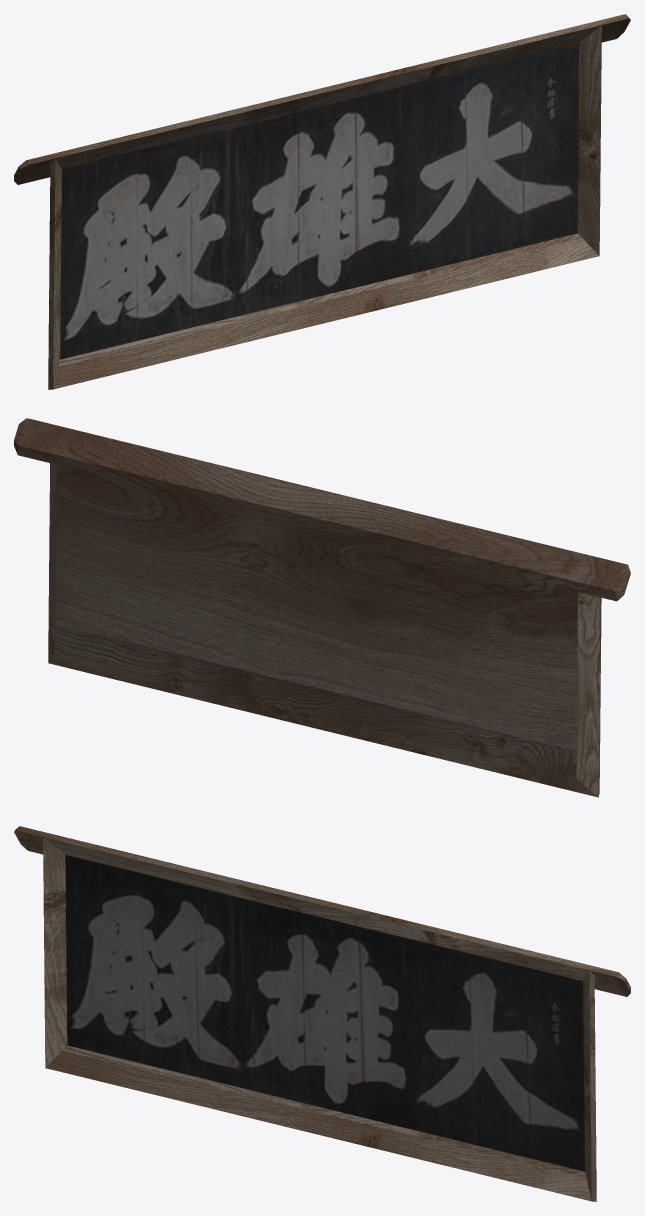
File: SM_Sun_Dae_sign.fbx
3 renders of one model, top to bottom at view 1: azimuth 30°, elevation 25°; view 2: azimuth 150°, elevation 25°; view 3: azimuth 330°, elevation 25°, orthographic.
Visible parts, largest first — view 1: SM_Sun_Dae_sign; view 2: SM_Sun_Dae_sign; view 3: SM_Sun_Dae_sign.
Boxes of the visible parts, x1,y1,x2,y2 form: SM_Sun_Dae_sign: (14, 14, 630, 389); SM_Sun_Dae_sign: (14, 418, 630, 797); SM_Sun_Dae_sign: (14, 826, 630, 1201).
Bounding box in the file's own units: 317 × 118 × 11.7.
